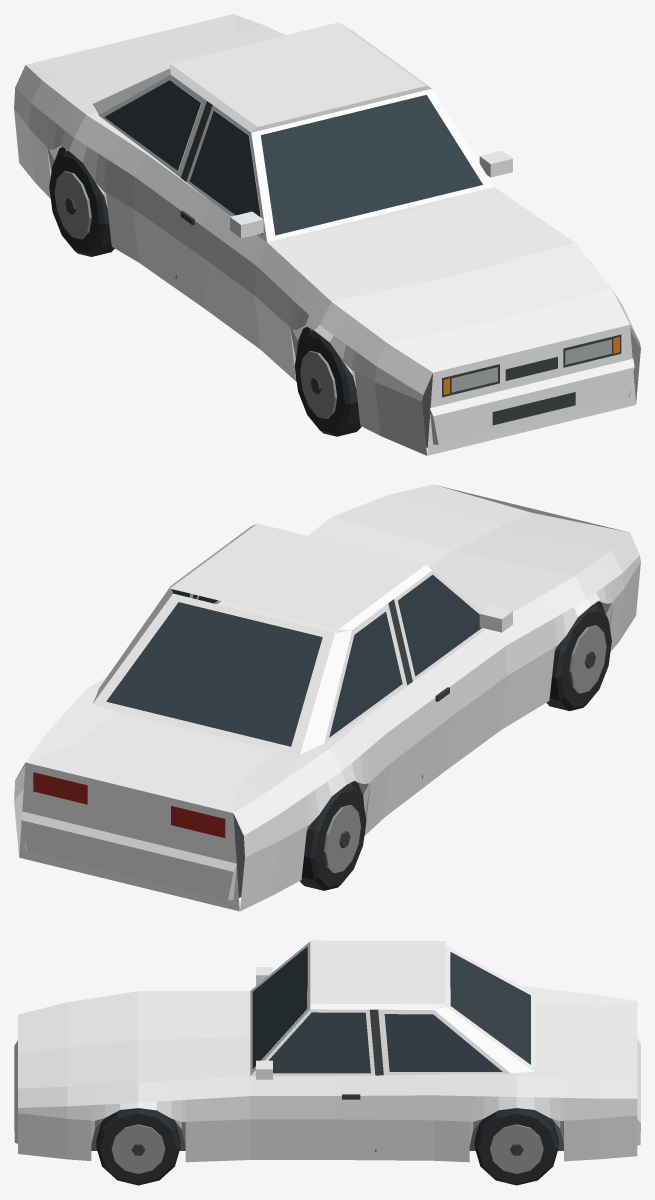
The model's file is hozuki_harusame.glb.
3 views of the same model, one above another, from view 1: azimuth 30°, elevation 25°; view 2: azimuth 150°, elevation 25°; view 3: azimuth 270°, elevation 25° (orthographic). The views are drawn at different scales.
Visible parts, largest first — view 1: hozuki_harusame; view 2: hozuki_harusame; view 3: hozuki_harusame.
Boxes of the visible parts, bbox=[...] form: hozuki_harusame: bbox=[14, 14, 640, 455]; hozuki_harusame: bbox=[14, 484, 640, 911]; hozuki_harusame: bbox=[14, 940, 640, 1185].
Size of the model in its own units: 1.73 by 1.27 by 4.39.
8 materials, 1 textured.
